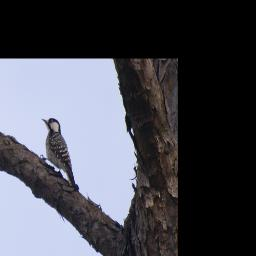Woodpecker: (37, 113, 82, 196)
